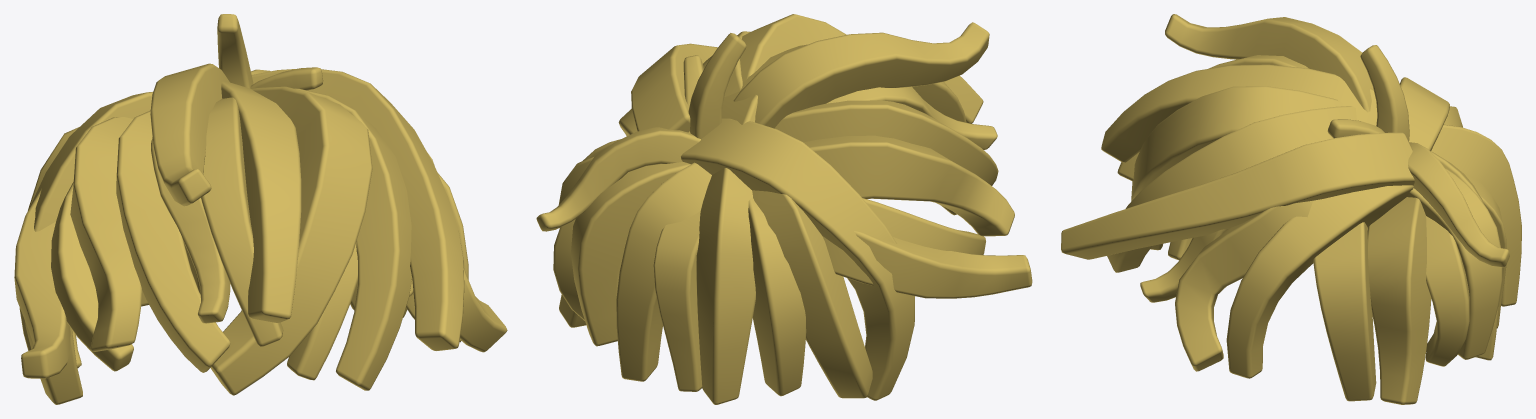
The model's file is Hair01_mesh.fbx.
3 renders of one model, left to right at view 1: azimuth 30°, elevation 25°; view 2: azimuth 150°, elevation 25°; view 3: azimuth 270°, elevation 25°, orthographic. The views are drawn at different scales.
Parts seen in each view (by area): view 1: Hair_01; view 2: Hair_01; view 3: Hair_01.
Part boxes in pixels (x1=…): Hair_01: x1=14, y1=14, x2=507, y2=404; Hair_01: x1=536, y1=14, x2=1032, y2=404; Hair_01: x1=1061, y1=14, x2=1521, y2=404.
Bounding box in the file's own units: 37.47 × 27.97 × 38.59.
